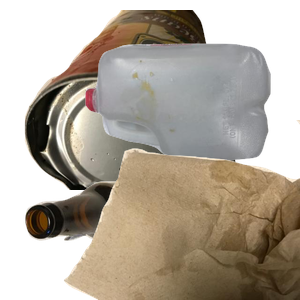glass: (23, 179, 183, 300)
metal: (22, 10, 251, 190)
plastic: (83, 41, 300, 194)
trash: (60, 120, 300, 300)
